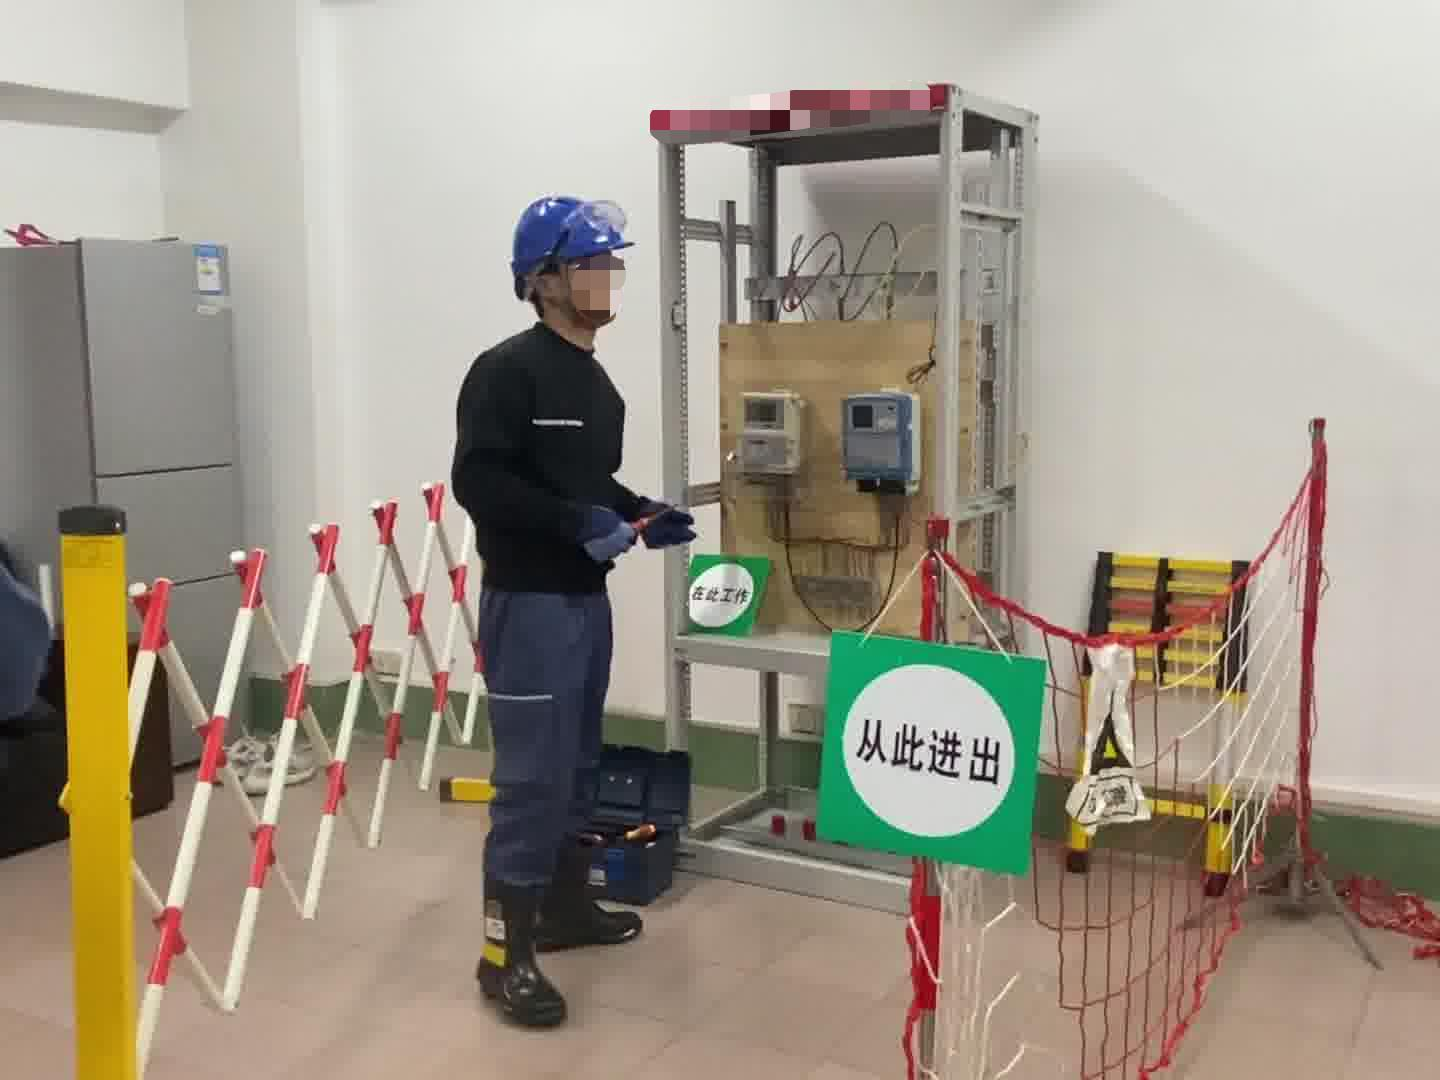halt: (510, 195, 639, 340)
inear: (530, 263, 582, 315)
